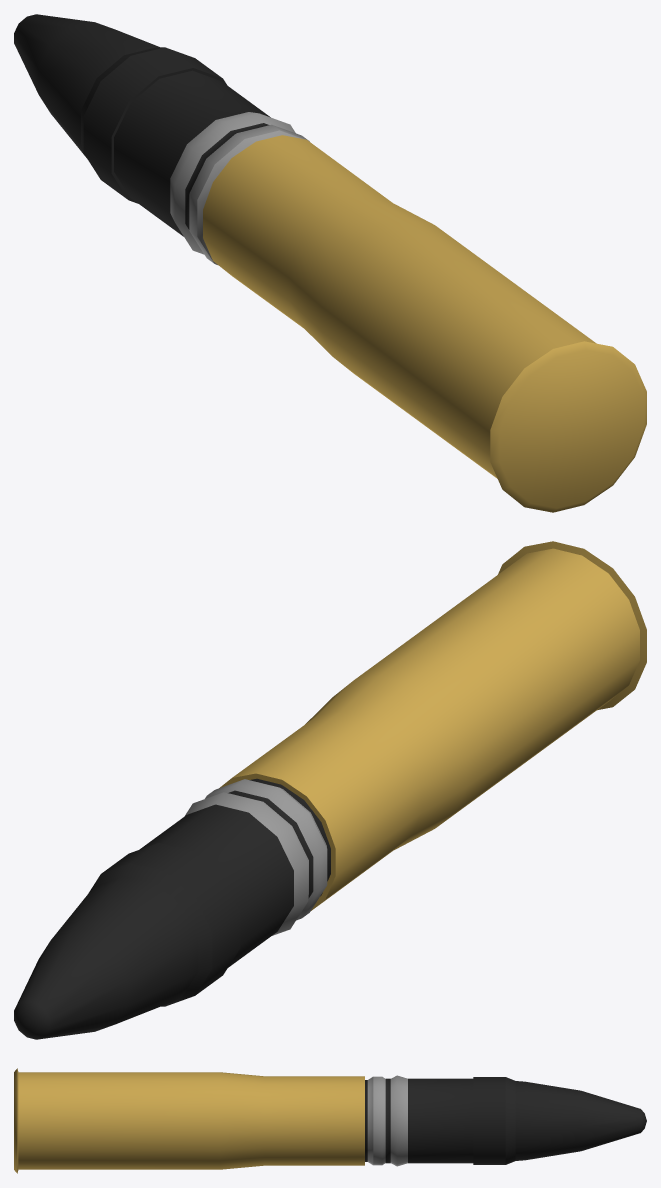
The model's file is ap_shell_122.fbx.
3 views of the same model, one above another, from view 1: azimuth 30°, elevation 25°; view 2: azimuth 150°, elevation 25°; view 3: azimuth 270°, elevation 25° (orthographic). The views are drawn at different scales.
Visible parts, largest first — view 1: Case; view 2: Case; view 3: Case.
Boxes of the visible parts, bbox=[...] form: Case: bbox=[14, 14, 646, 512]; Case: bbox=[14, 541, 646, 1039]; Case: bbox=[14, 1068, 646, 1173].
Size of the model in its own units: 99.46 by 99.46 by 600.
